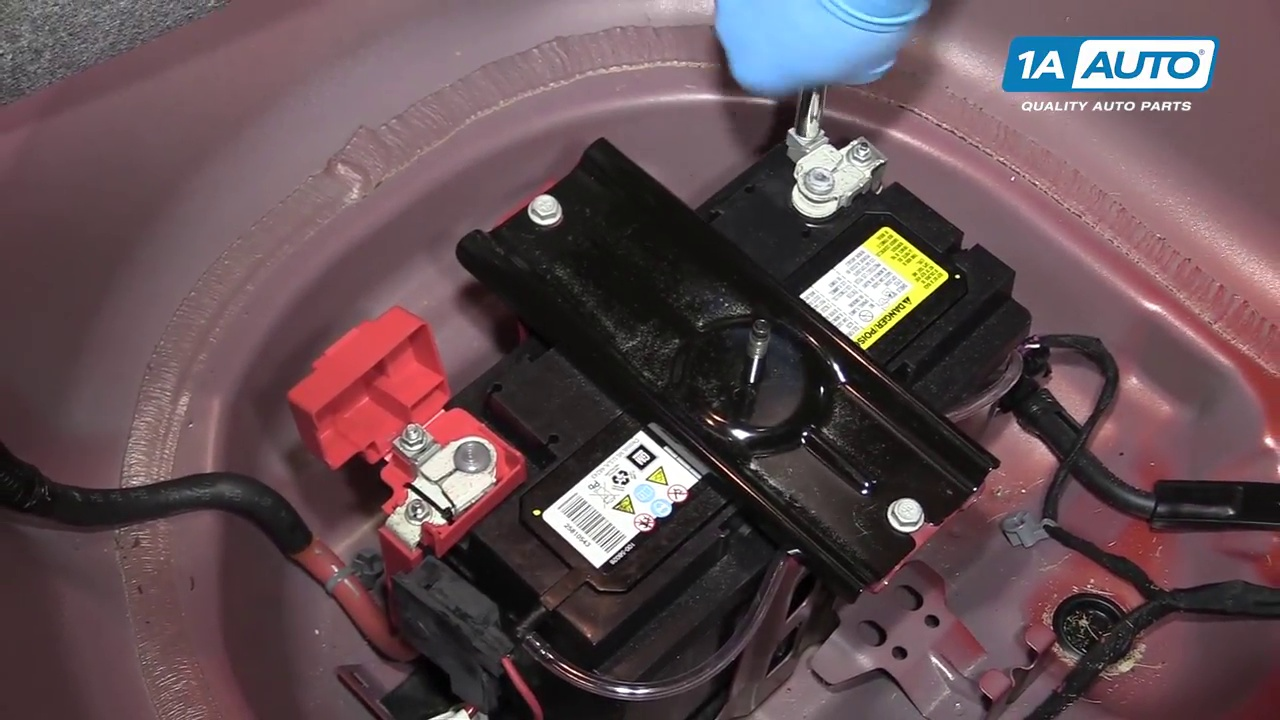battery: (366, 123, 1024, 672)
neg_connected: (769, 116, 942, 238)
neg_touched: (704, 8, 929, 231)
pos_connected: (303, 342, 526, 573)
